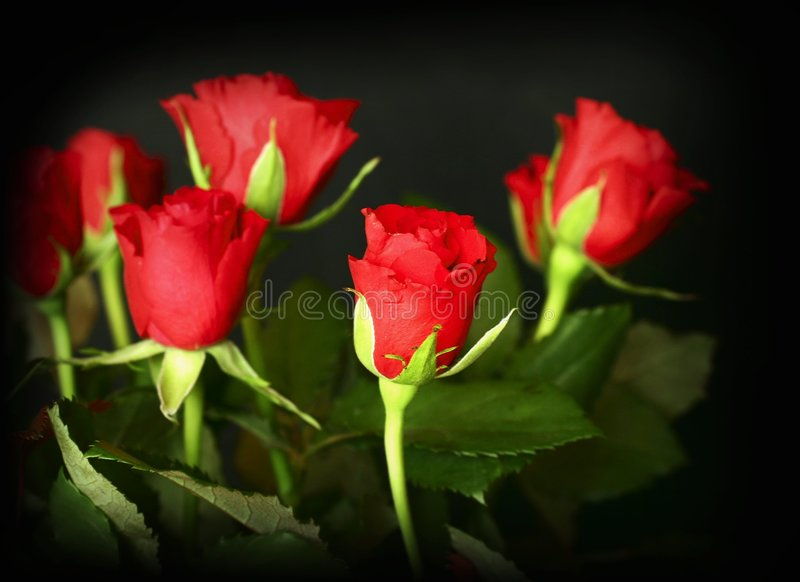RedRose: (149, 34, 381, 243), (516, 64, 692, 315), (344, 193, 490, 415), (119, 180, 254, 365)
